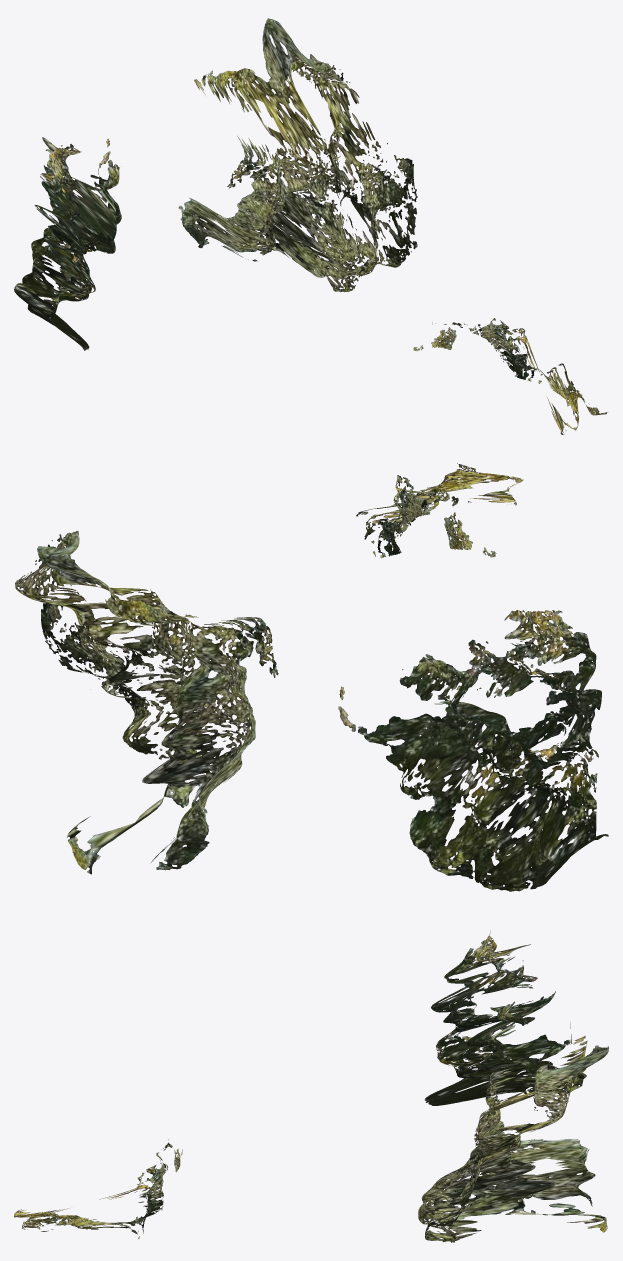
The model's file is appearance-10.glb.
The picture shows the model from 3 angles, top to bottom: view 1: azimuth 30°, elevation 25°; view 2: azimuth 150°, elevation 25°; view 3: azimuth 270°, elevation 25°; orthographic projection. The views are drawn at different scales.
Visible parts, largest first — view 1: middle, left, foreground; view 2: left, middle, foreground; view 3: middle, left, foreground.
Part boxes in pixels (x1=…): middle: x1=178, y1=18, x2=417, y2=292; left: x1=14, y1=137, x2=121, y2=350; foreground: x1=413, y1=318, x2=607, y2=434; left: x1=338, y1=610, x2=608, y2=891; middle: x1=15, y1=531, x2=278, y2=874; foreground: x1=356, y1=463, x2=523, y2=558; middle: x1=418, y1=1036, x2=608, y2=1242; left: x1=425, y1=930, x2=586, y2=1105; foreground: x1=14, y1=1139, x2=182, y2=1238.
Size of the model in its own units: 12.07 by 6.78 by 17.58.
Materials: 3 (3 with a texture image).
